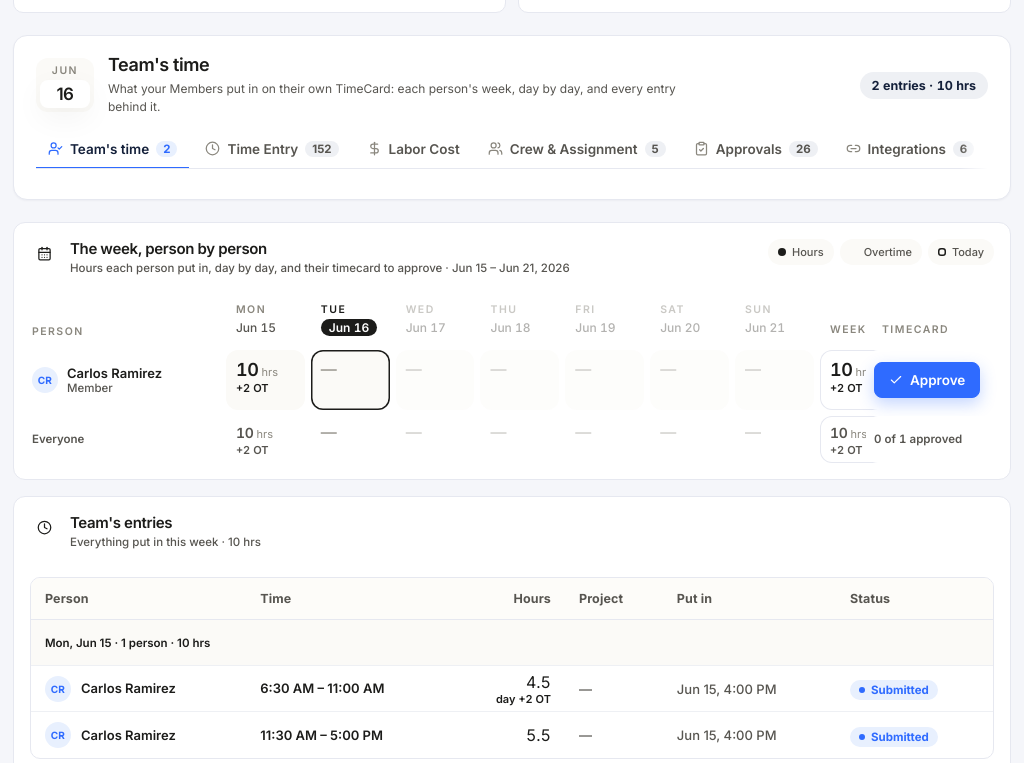
Test: approving a person's timecard › says so when an approval is refused, and leaves the button to try again
(page scrolled)
Click the button with aria-label "Approve Carlos Ramirez's timecard" at (927, 380), box [874,362,980,398]
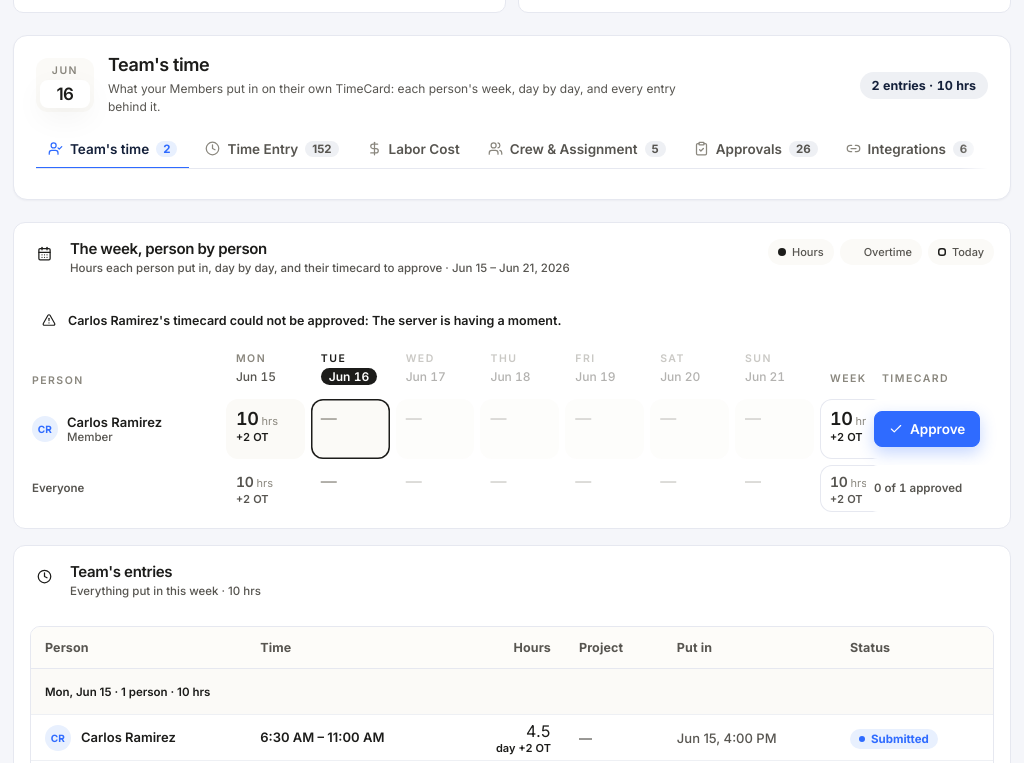
expect the button with aria-label "Approve Carlos Ramirez's timecard" is enabled: met, box [874,411,980,447]
expect the message reads "Carlos Ramirez's timecard could not be approved: The server is having a moment.": met, box [68,313,562,328]
